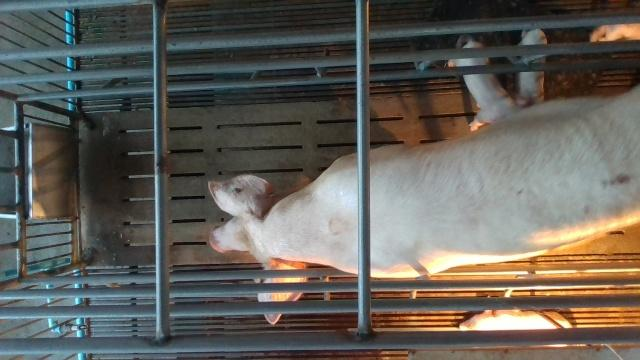piglet: (455, 34, 529, 131), (458, 309, 572, 330), (519, 29, 547, 106)
sow-stand: (207, 82, 640, 325)
